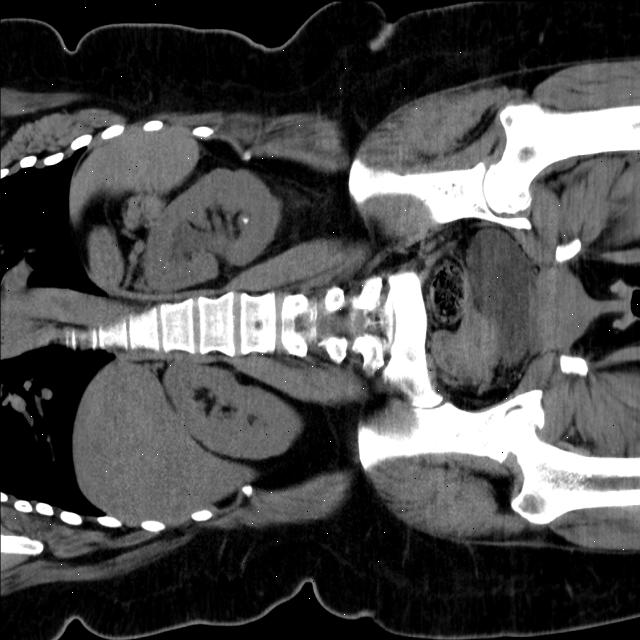kidneystone: (240, 213, 250, 225)
